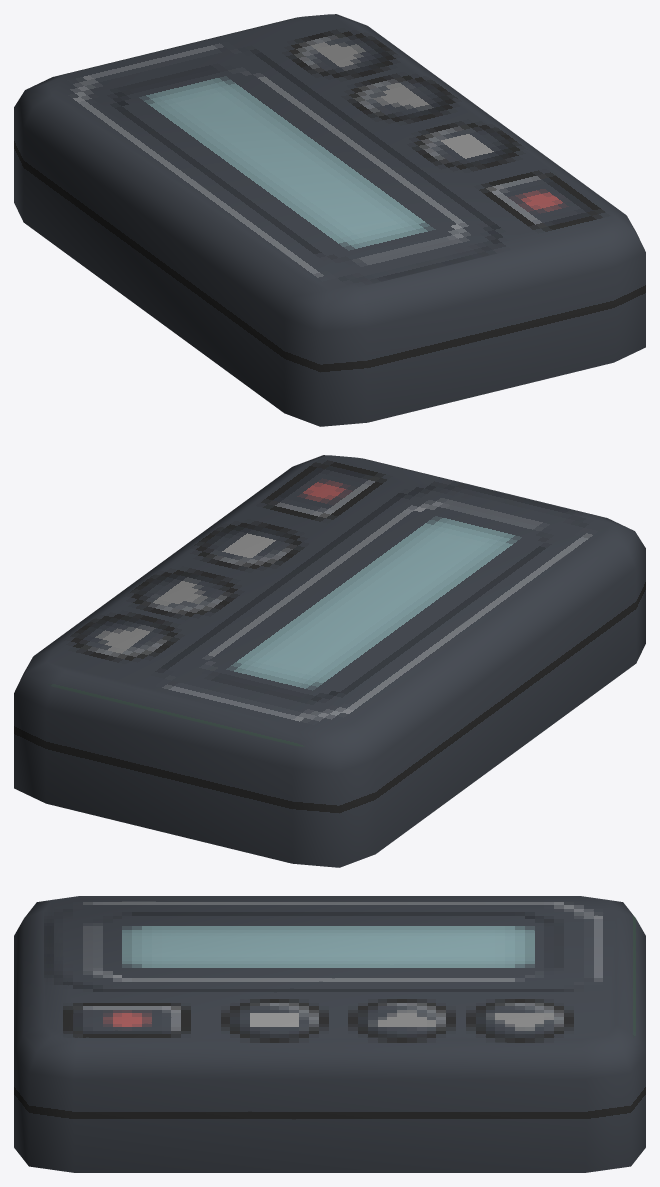
File: Pager.fbx
3 views of the same model, one above another, from view 1: azimuth 30°, elevation 25°; view 2: azimuth 150°, elevation 25°; view 3: azimuth 270°, elevation 25° (orthographic).
Visible parts, largest first — view 1: Pager; view 2: Pager; view 3: Pager.
Part boxes in pixels (x1,y1,x2,y2): Pager: (14, 14, 645, 426); Pager: (14, 455, 645, 867); Pager: (14, 896, 645, 1172).
Size of the model in its own units: 0.6536 by 0.2179 by 1.03.
